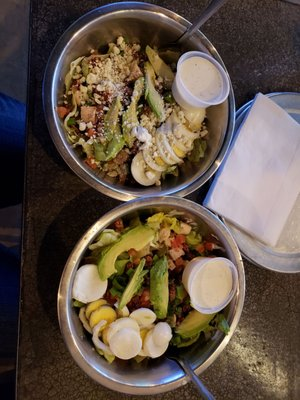salad: (159, 0, 230, 54)
sushi: (43, 1, 235, 203), (57, 198, 246, 395), (203, 92, 300, 274)
